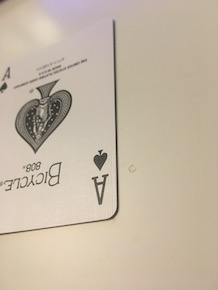AceOfSpades: (1, 16, 125, 241)
